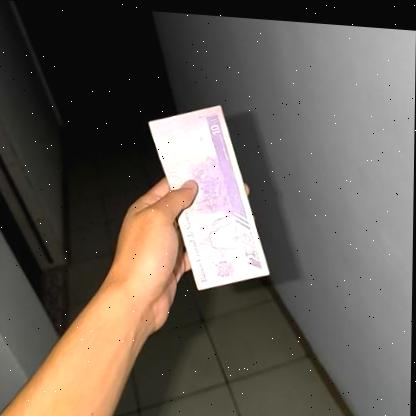ten-back-vef: (145, 96, 272, 291)
